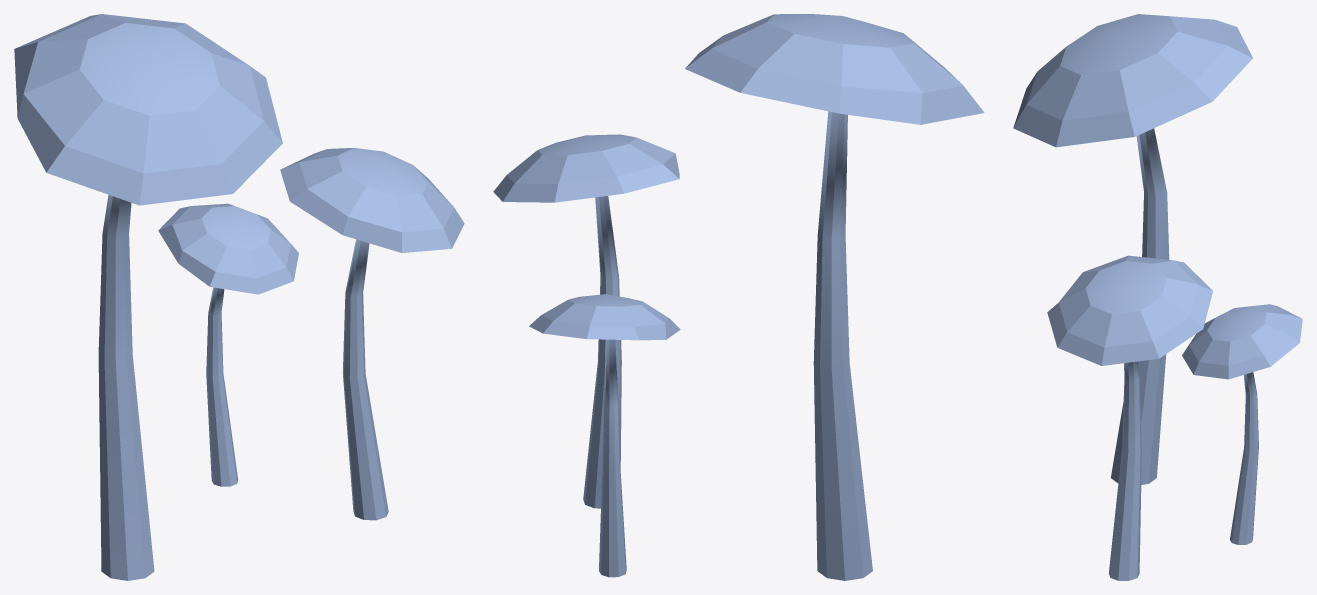
File: Moonlight-mushroom2.fbx
3 views of the same model, side by side, from view 1: azimuth 30°, elevation 25°; view 2: azimuth 150°, elevation 25°; view 3: azimuth 270°, elevation 25° (orthographic). The views are drawn at different scales.
Parts seen in each view (by area): view 1: pCylinder6; view 2: pCylinder6; view 3: pCylinder6.
Boxes of the visible parts, x1,y1,x2,y2 form: pCylinder6: [14, 14, 464, 580]; pCylinder6: [493, 14, 984, 580]; pCylinder6: [1013, 14, 1302, 580].
Bounding box in the file's own units: 13.31 × 15.54 × 8.97.
